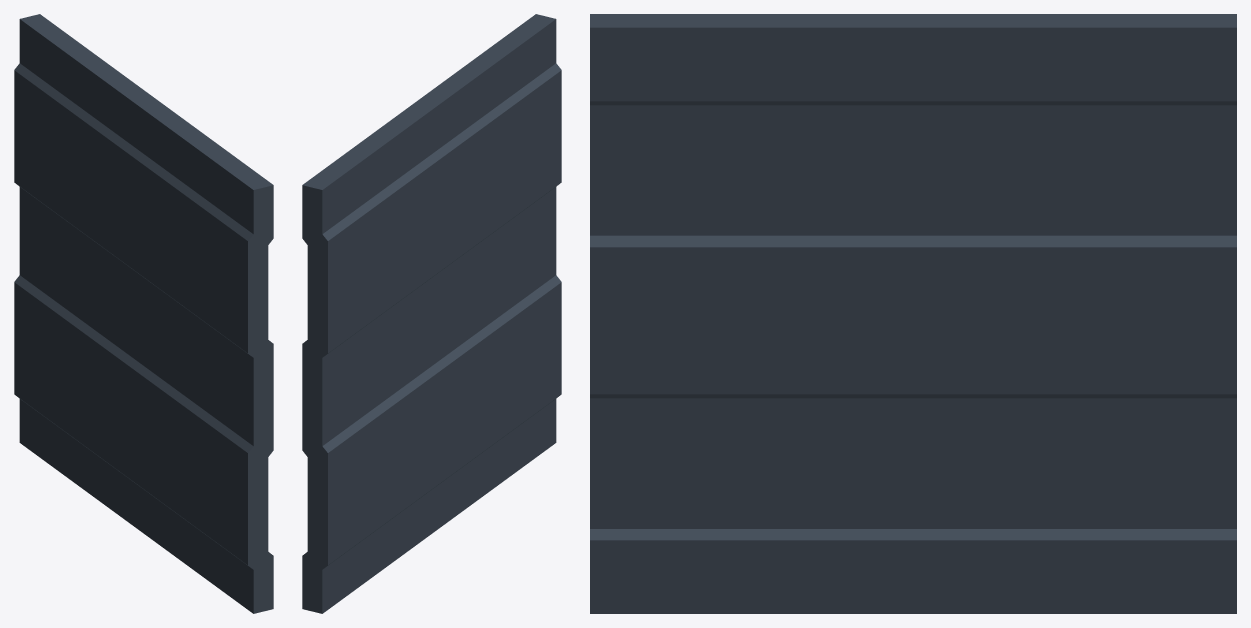
The model's file is Wall22.fbx.
3 renders of one model, left to right at view 1: azimuth 30°, elevation 25°; view 2: azimuth 150°, elevation 25°; view 3: azimuth 270°, elevation 25°, orthographic. The views are drawn at different scales.
Visible parts, largest first — view 1: Plane.749; view 2: Plane.749; view 3: Plane.749.
Part boxes in pixels (x1=…): Plane.749: x1=14, y1=14, x2=273, y2=613; Plane.749: x1=302, y1=14, x2=561, y2=613; Plane.749: x1=590, y1=14, x2=1236, y2=613.
Size of the model in its own units: 1272 by 20000 by 20000.
